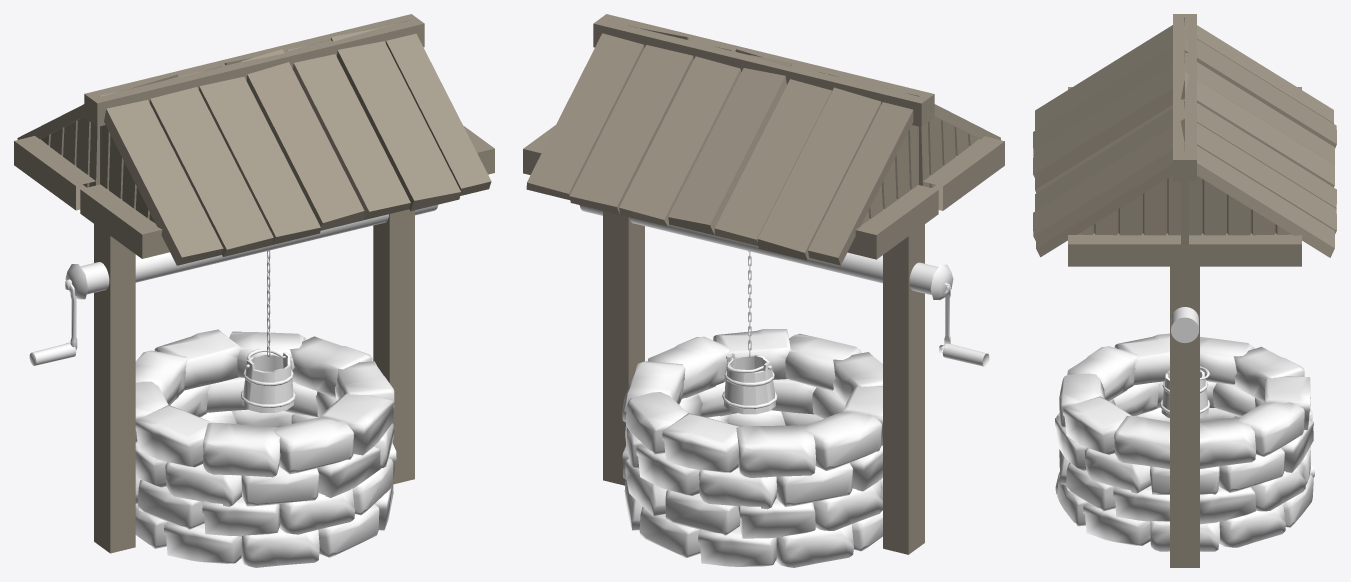
Rendered from eastbrook_well.glb.
3 views of the same model, side by side, from view 1: azimuth 30°, elevation 25°; view 2: azimuth 150°, elevation 25°; view 3: azimuth 270°, elevation 25° (orthographic). The views are drawn at different scales.
Visible parts, largest first — view 1: village/MI_WoodTrim_Wear, village/MI_RockTrim, village/MI_WoodTrim, props/MI_Trim_Props, props/MI_Trim_Furniture, props/MI_Trim_Metal; view 2: village/MI_WoodTrim_Wear, village/MI_RockTrim, village/MI_WoodTrim, props/MI_Trim_Props, props/MI_Trim_Furniture, props/MI_Trim_Metal; view 3: village/MI_WoodTrim_Wear, village/MI_RockTrim, village/MI_WoodTrim, props/MI_Trim_Furniture.
Part boxes in pixels (bbox=[...]): village/MI_WoodTrim_Wear: bbox=[17, 21, 491, 265]; village/MI_RockTrim: bbox=[135, 329, 396, 567]; village/MI_WoodTrim: bbox=[14, 14, 494, 553]; props/MI_Trim_Props: bbox=[32, 205, 437, 365]; props/MI_Trim_Furniture: bbox=[29, 352, 296, 412]; props/MI_Trim_Metal: bbox=[65, 250, 291, 368]; village/MI_WoodTrim_Wear: bbox=[526, 20, 1000, 265]; village/MI_RockTrim: bbox=[622, 329, 882, 567]; village/MI_WoodTrim: bbox=[523, 14, 1004, 554]; props/MI_Trim_Props: bbox=[579, 205, 987, 366]; props/MI_Trim_Furniture: bbox=[722, 353, 989, 414]; props/MI_Trim_Metal: bbox=[726, 251, 953, 373]; village/MI_WoodTrim_Wear: bbox=[1033, 17, 1336, 257]; village/MI_RockTrim: bbox=[1055, 333, 1314, 551]; village/MI_WoodTrim: bbox=[1068, 14, 1301, 567]; props/MI_Trim_Furniture: bbox=[1159, 317, 1210, 418].
Bounding box in the file's own units: 2.82 × 3.08 × 2.04.
